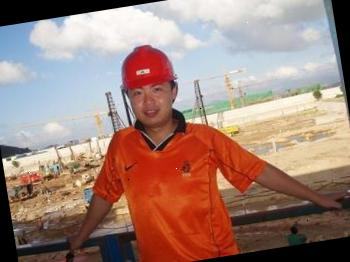helmet: (116, 41, 183, 94)
no_wear: (104, 118, 232, 262)
